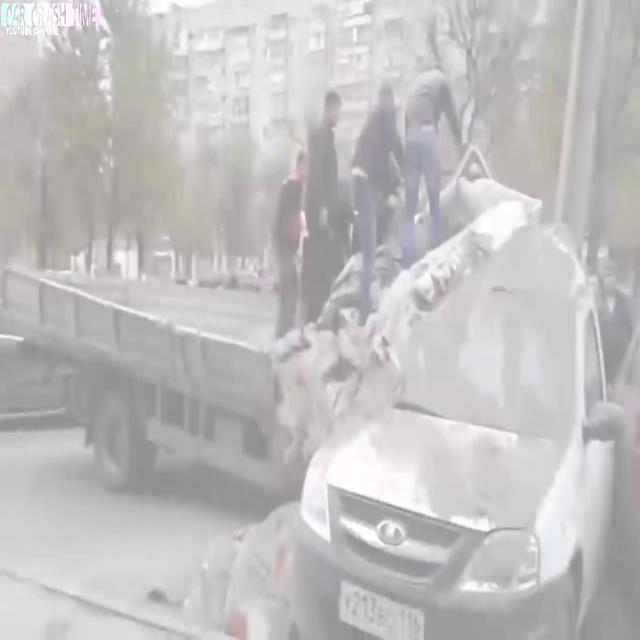Accident: (244, 59, 526, 560)
